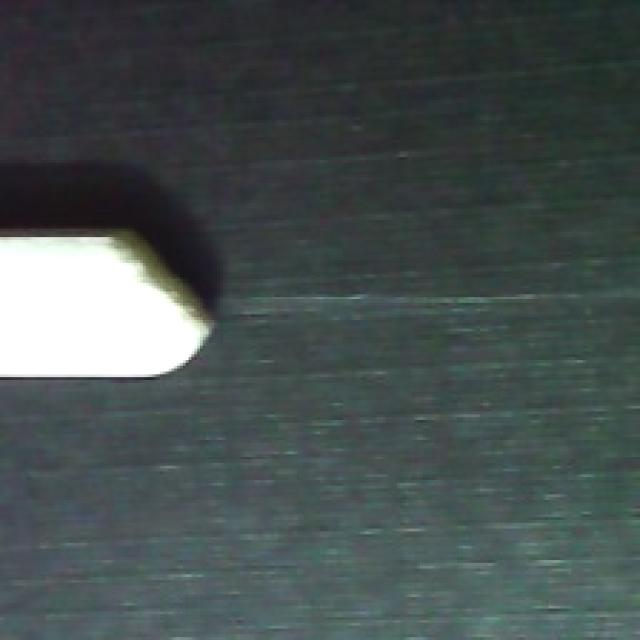defected: (0, 220, 220, 380)
